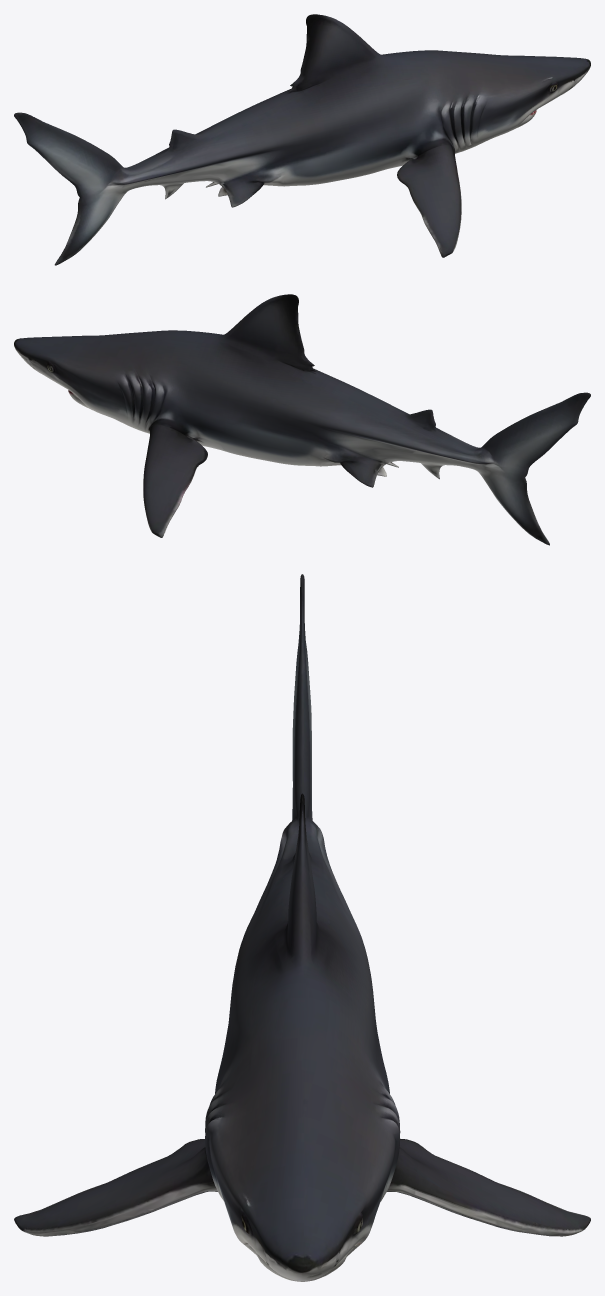
File: bull-shark.glb
The picture shows the model from 3 angles, top to bottom: view 1: azimuth 30°, elevation 25°; view 2: azimuth 150°, elevation 25°; view 3: azimuth 270°, elevation 25°; orthographic projection. The views are drawn at different scales.
Parts seen in each view (by area): view 1: material; view 2: material; view 3: material.
Boxes of the visible parts, bbox=[...] form: material: bbox=[14, 14, 590, 265]; material: bbox=[14, 294, 590, 545]; material: bbox=[14, 574, 590, 1281].
Size of the model in its own units: 1.17 by 0.3909 by 0.5392.
1 material, 1 textured.
